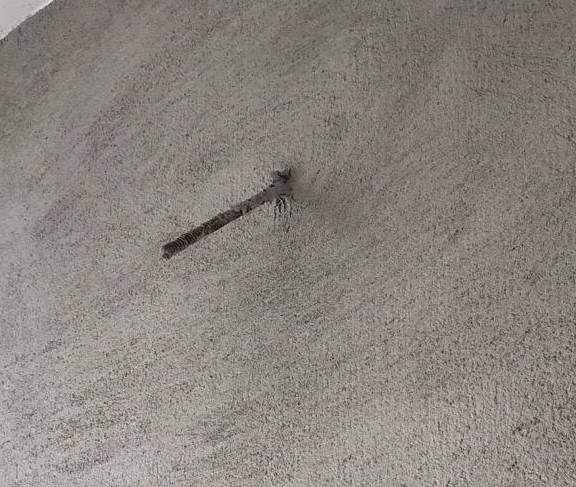Exposed reinforcement: (160, 166, 294, 262)
